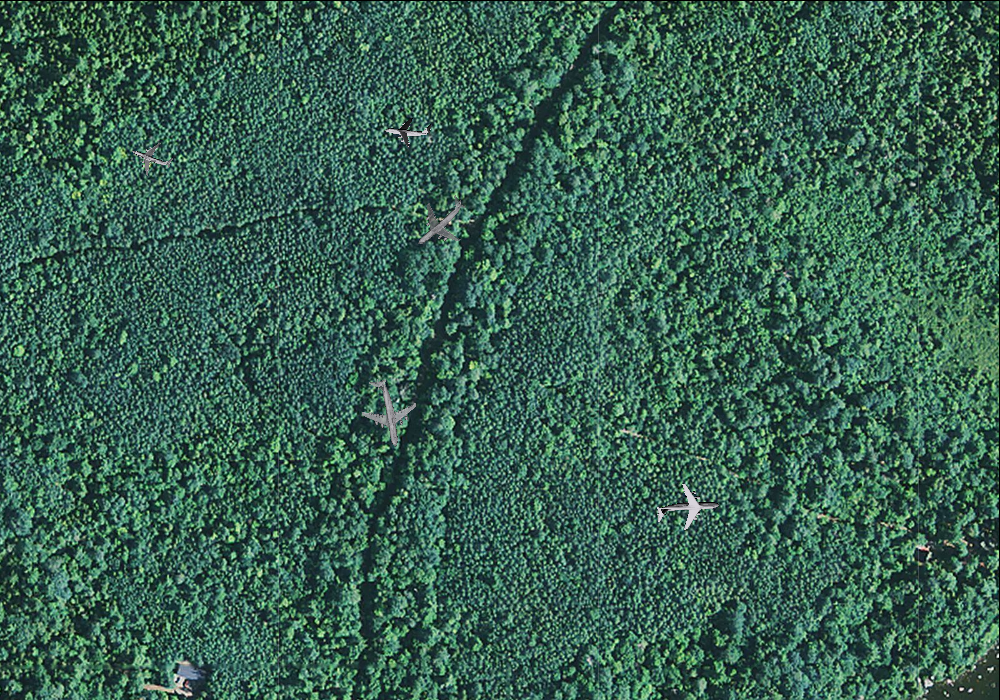plane: (398, 180, 482, 263), (349, 373, 424, 452), (655, 480, 720, 538), (125, 131, 178, 183), (383, 107, 433, 152)
